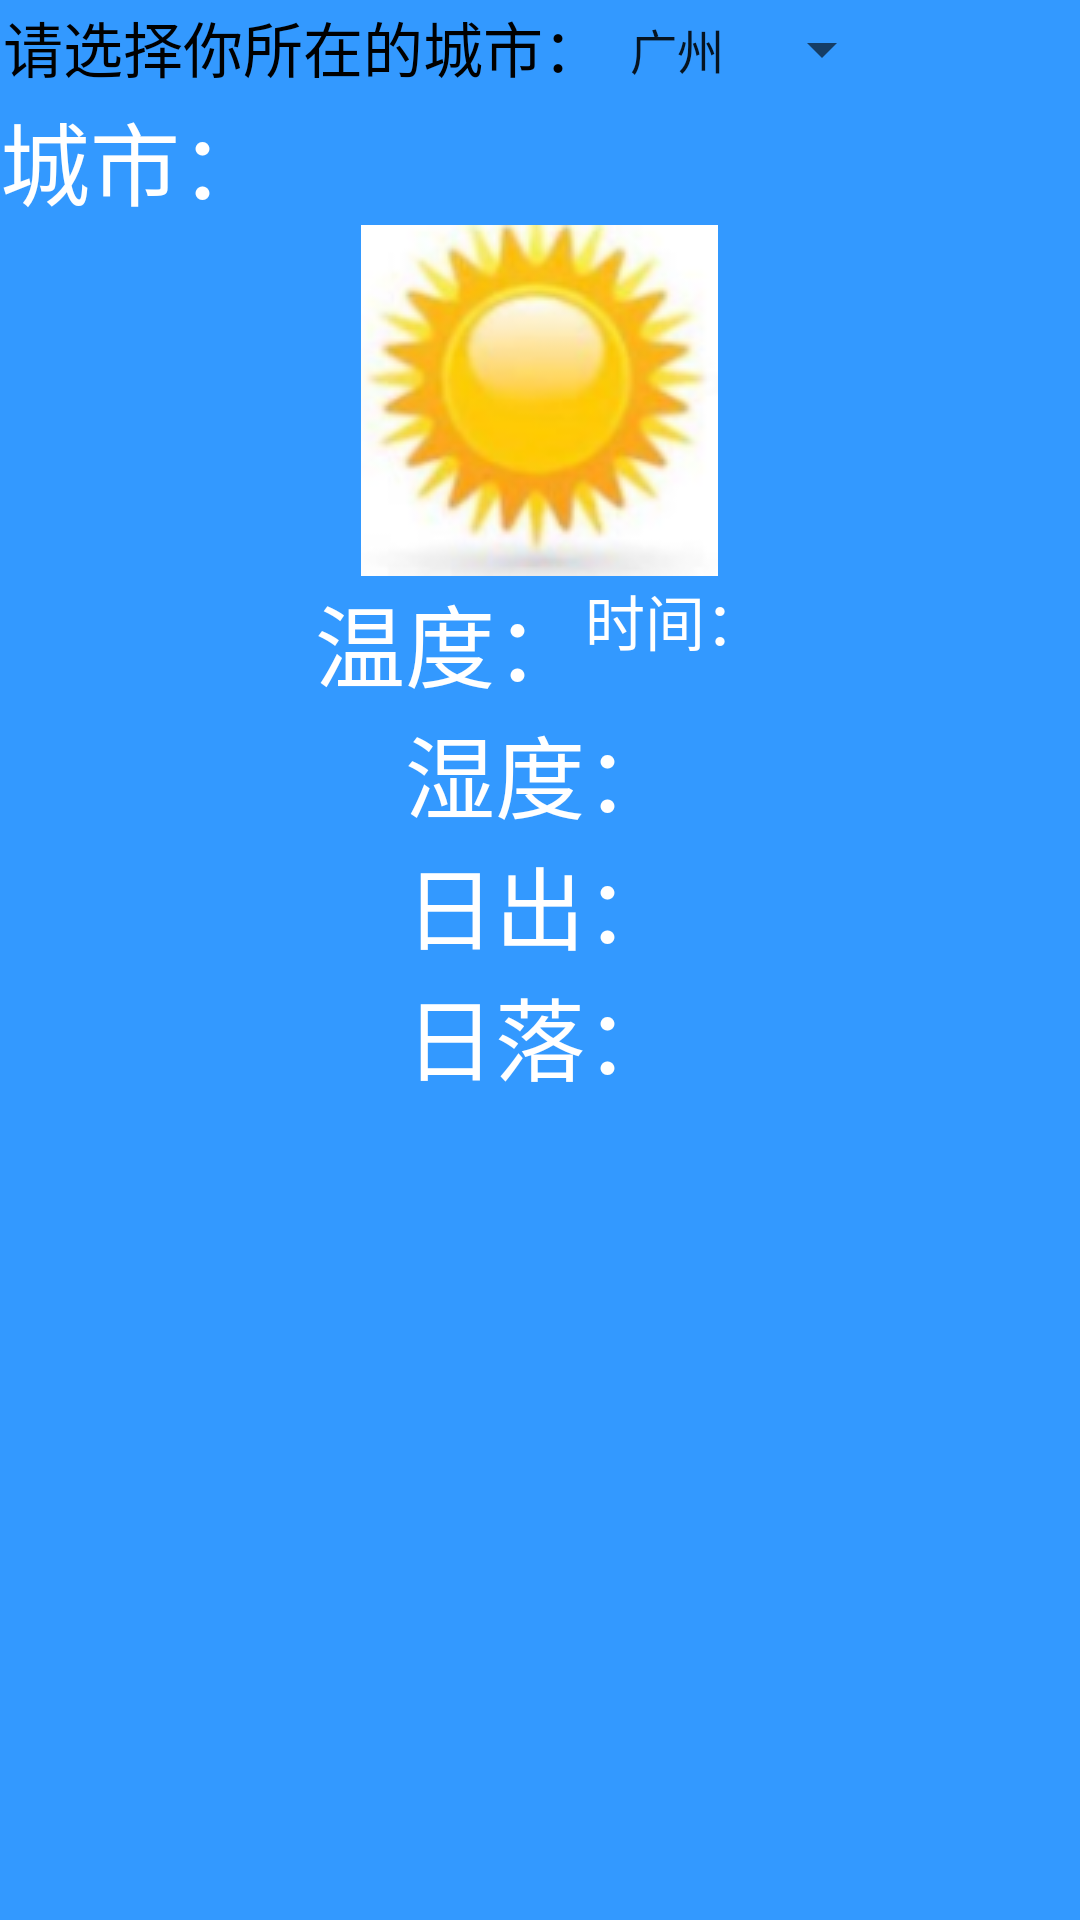

Screen size 1080 × 1920. Icon name, then its box in pixels as (x1, y1, x2, y2):
sun: (361, 225, 718, 576)
